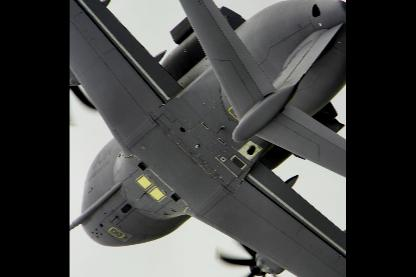A400M: (70, 0, 347, 276)
